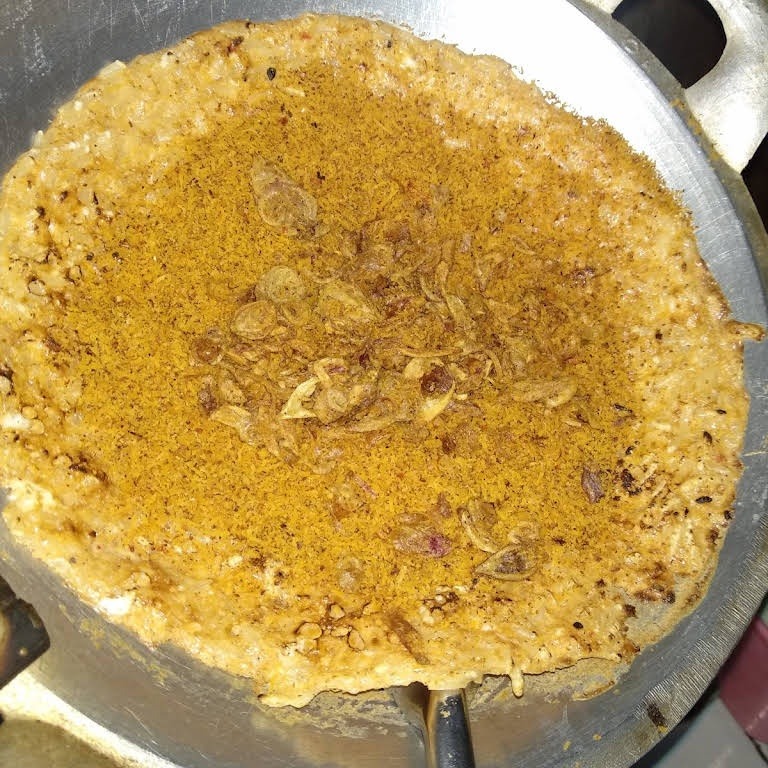kerak_telor: (1, 15, 750, 709)
